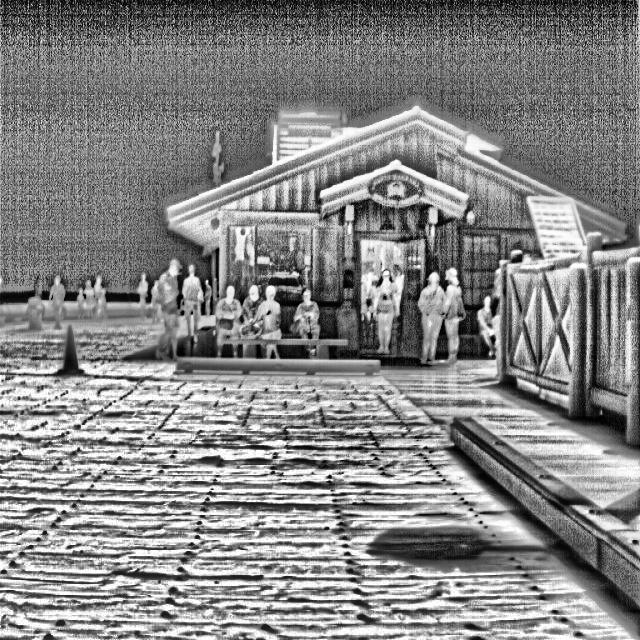person and bycle: (443, 268, 477, 371), (163, 260, 195, 356), (292, 288, 337, 355), (184, 264, 216, 358), (375, 263, 407, 354), (259, 288, 297, 363), (420, 270, 448, 357), (478, 279, 508, 359), (214, 284, 247, 356), (242, 281, 273, 354), (146, 277, 174, 347), (96, 280, 119, 330), (134, 275, 156, 319), (81, 283, 102, 325), (53, 277, 70, 326)
traffic cone: (60, 322, 95, 379)
trash: (23, 286, 41, 338)
